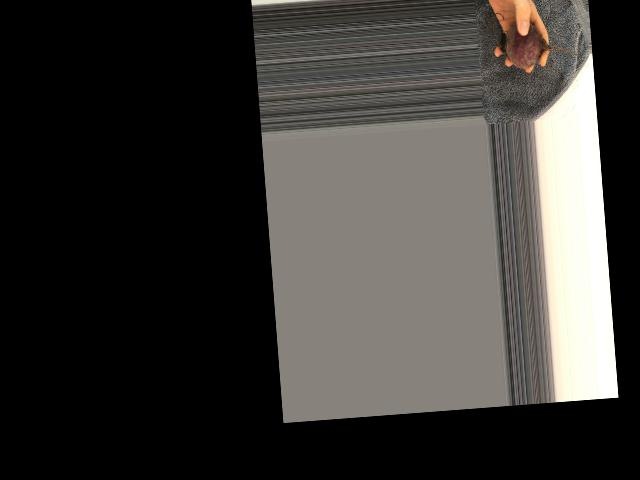beet: (498, 16, 579, 71)
